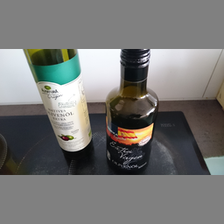oil: (22, 48, 96, 164), (105, 49, 160, 173)
